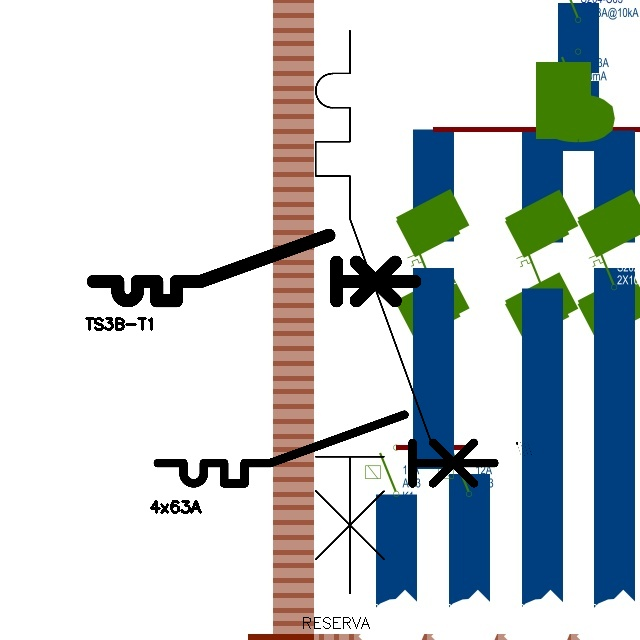interruptor_termomagnetico: (301, 16, 446, 608), (149, 406, 503, 492), (85, 227, 423, 309)
